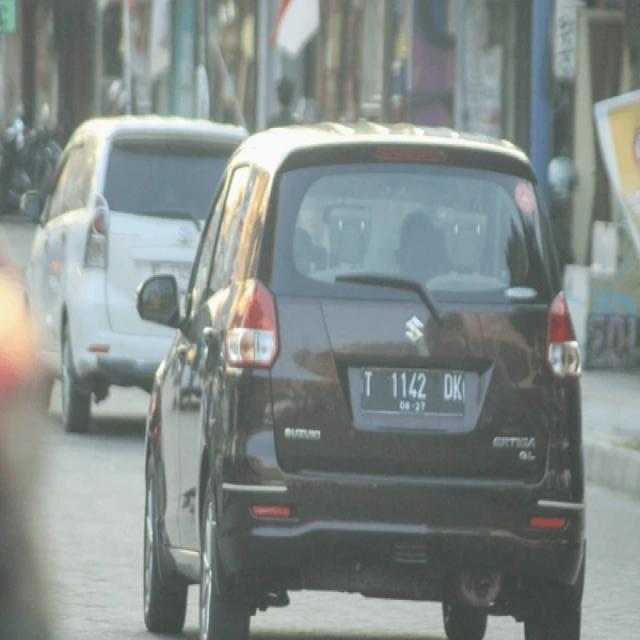suzuki: (403, 316, 427, 350)
